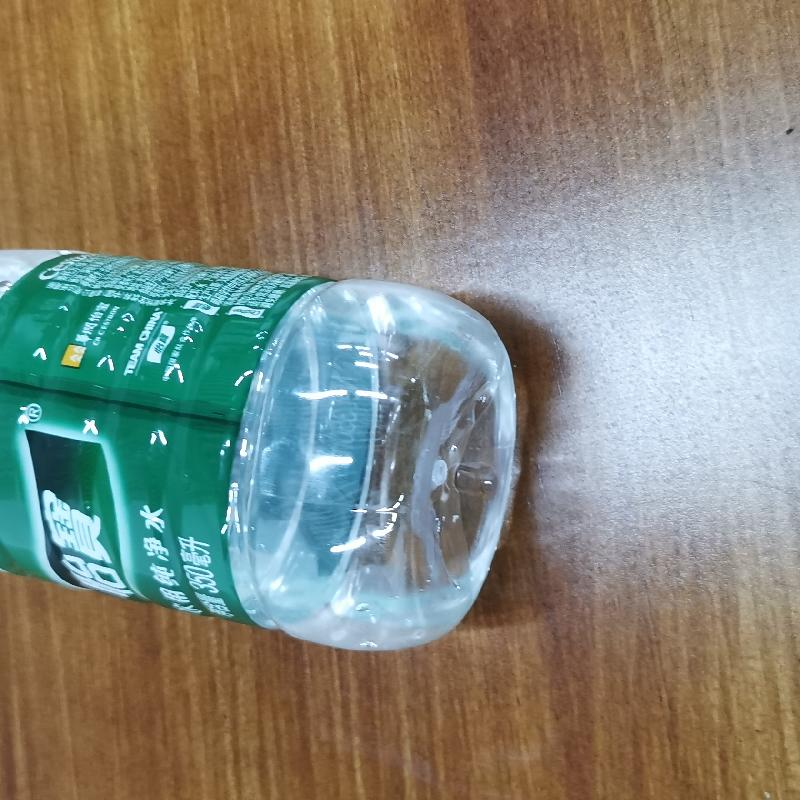bottles: (0, 239, 517, 659)
